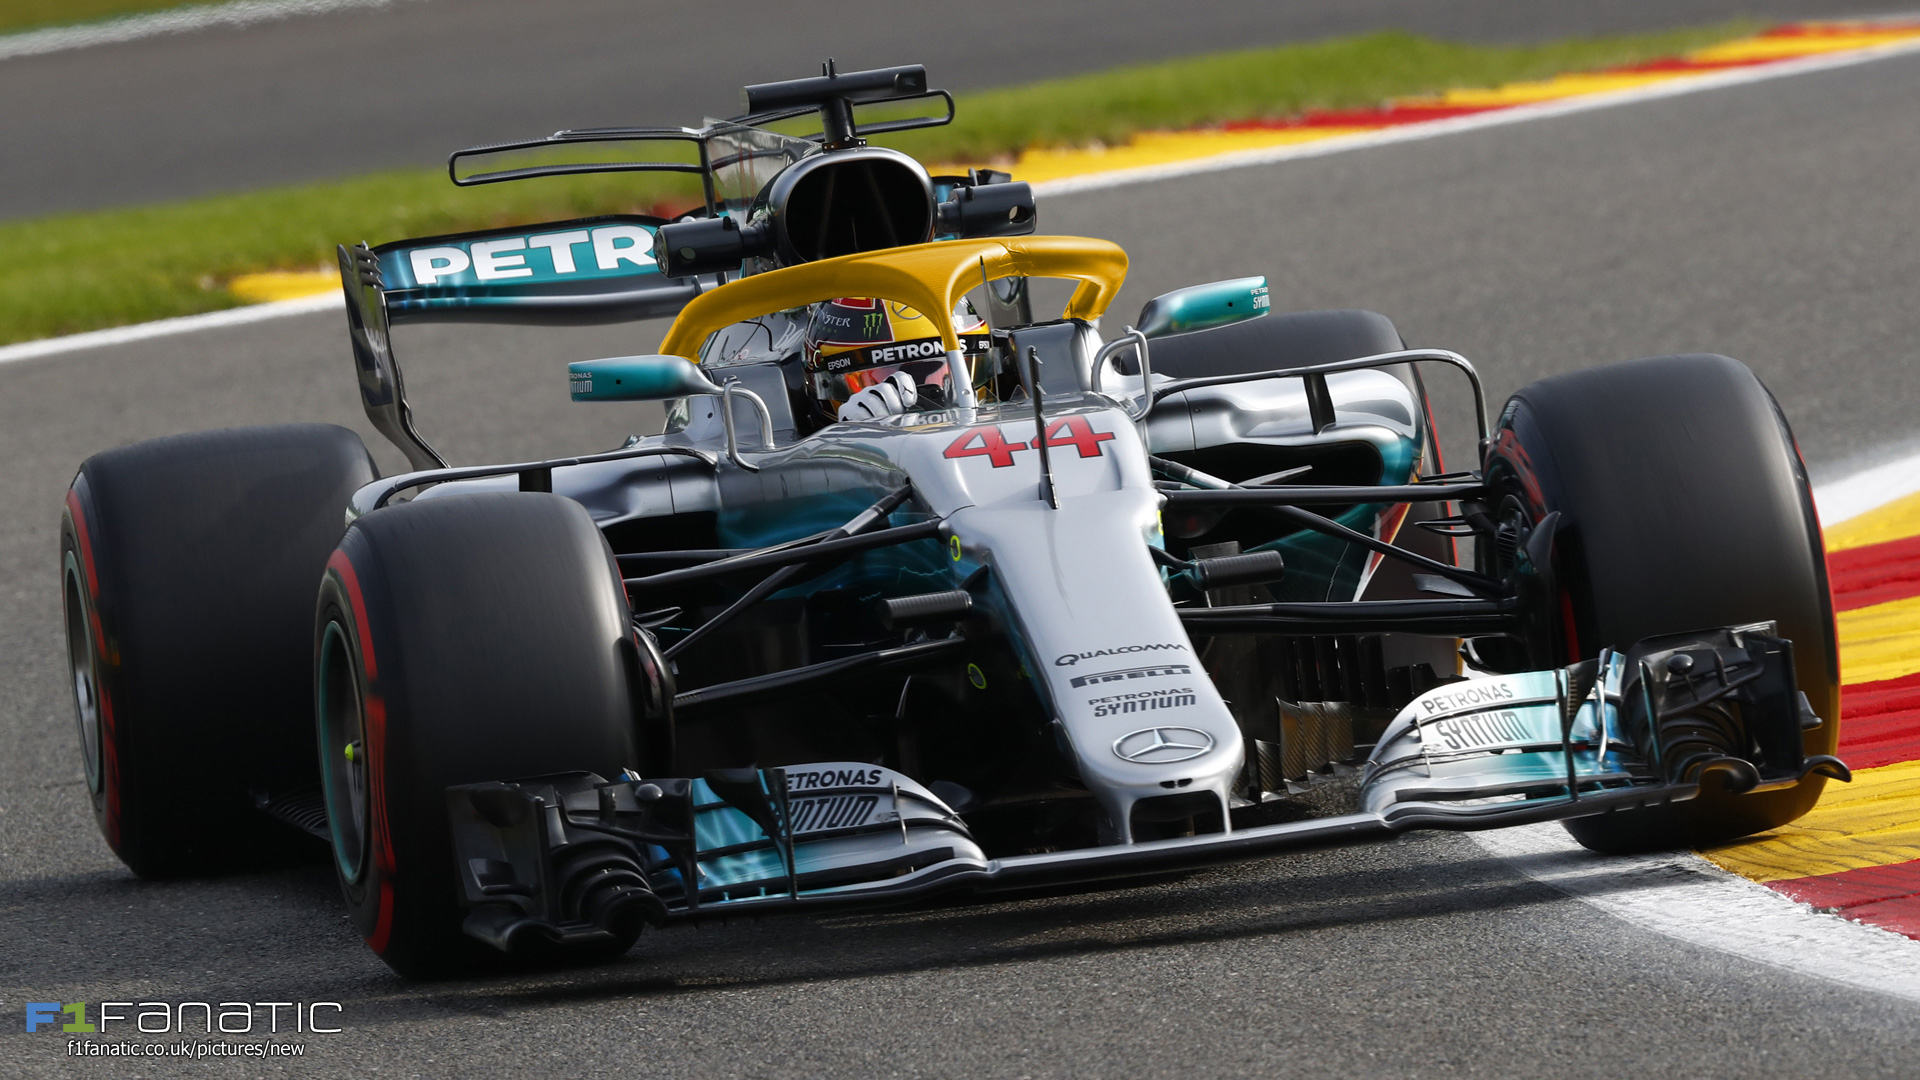F1 Car: (45, 53, 1863, 992)
